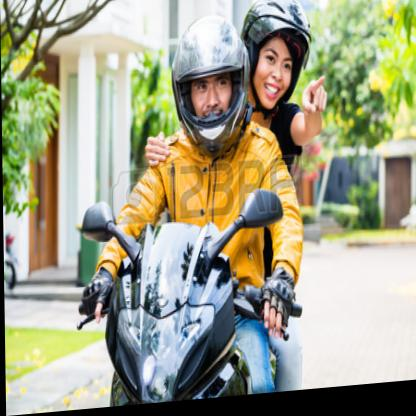With Helmet: (166, 8, 256, 167)
